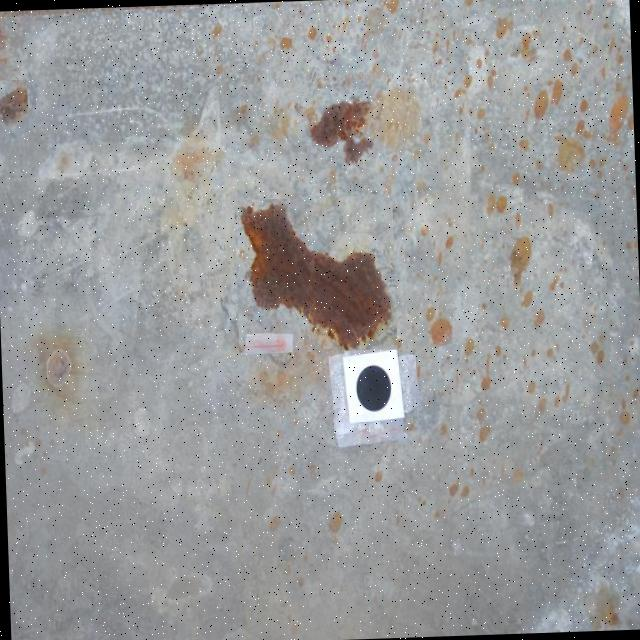Corrosion: (238, 196, 393, 354), (308, 96, 374, 165)
